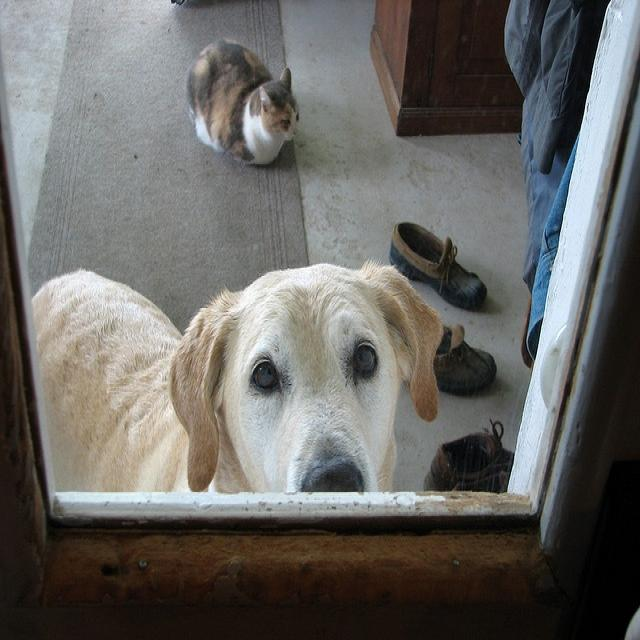dog: (29, 252, 444, 492)
